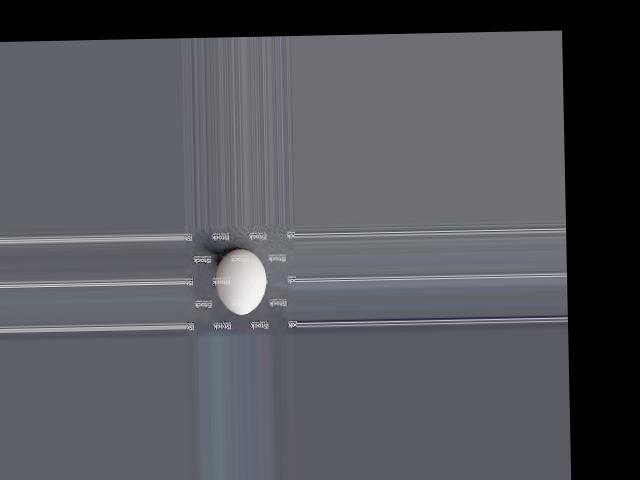egg: (214, 248, 266, 315)
